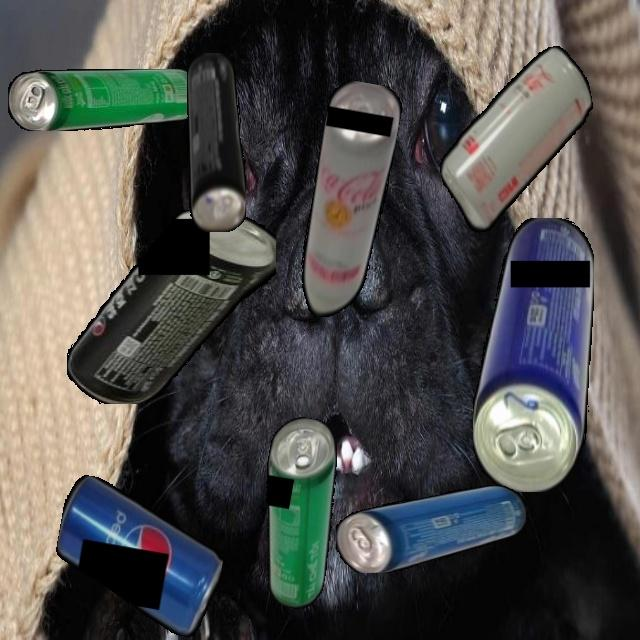debris: (67, 209, 276, 404), (423, 42, 611, 237), (472, 217, 594, 492), (46, 473, 233, 640), (292, 77, 405, 324), (244, 413, 351, 612), (336, 484, 526, 573), (8, 68, 202, 131), (186, 52, 246, 232)
